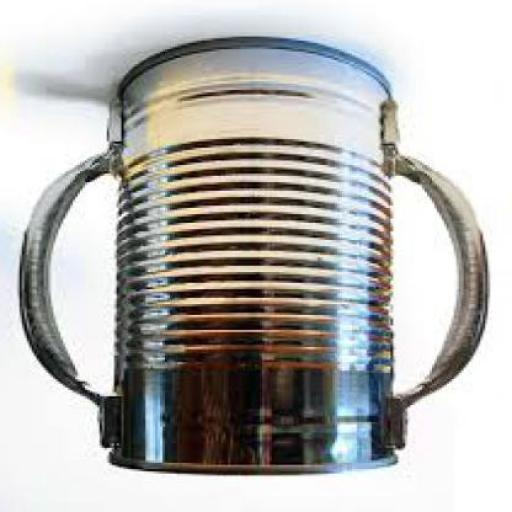metal: (20, 45, 490, 478)
